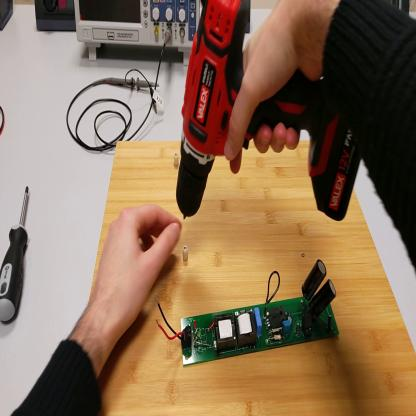electric screwdriver: (176, 1, 360, 222)
hand: (224, 5, 324, 172), (93, 204, 184, 338)
high voltage board: (158, 254, 340, 369)
oscilloscope: (74, 3, 201, 65)
oscilloscope probe tip: (104, 71, 160, 93)
screwdriver-: (2, 185, 32, 328)
socket: (34, 2, 78, 35), (1, 2, 14, 32)
welder station: (390, 3, 411, 19)
working area: (91, 141, 416, 416)
